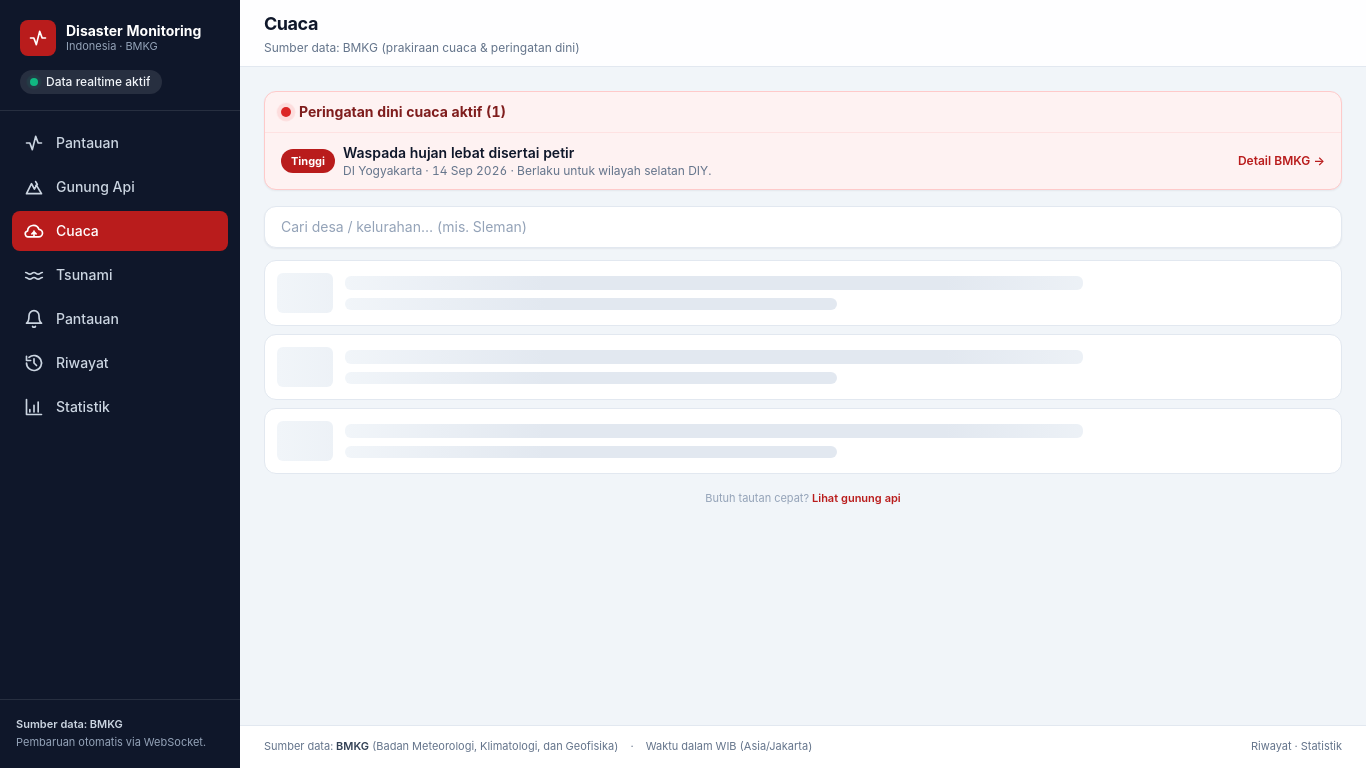
Test: Cuaca › menampilkan lokasi, prakiraan, dan peringatan
In the search field with id "cuaca-q": (803, 227) left=264, top=206, right=1342, bottom=248, type "Sleman"
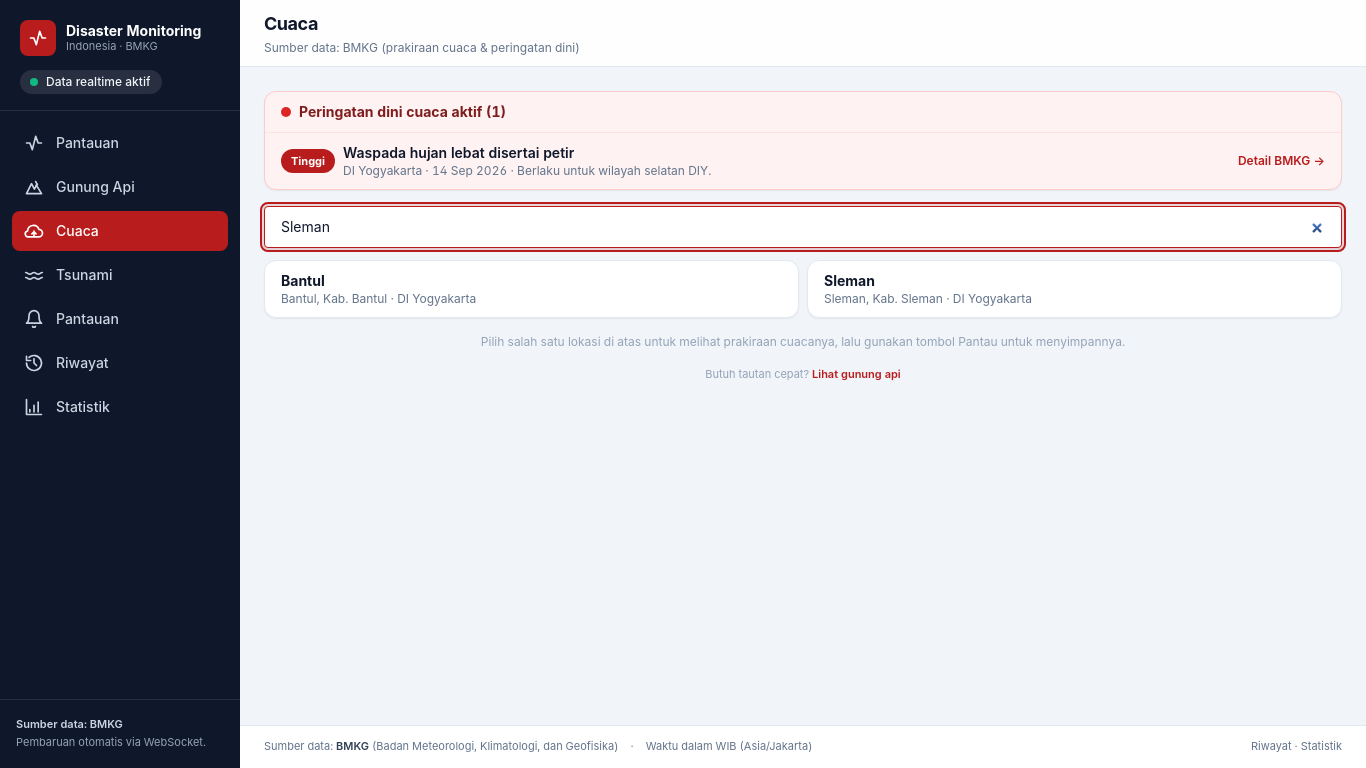
Expected: the button "Bantul" is shown, left=264, top=260, right=799, bottom=318
Click the button "Sleman": (849, 281) left=807, top=260, right=1342, bottom=318
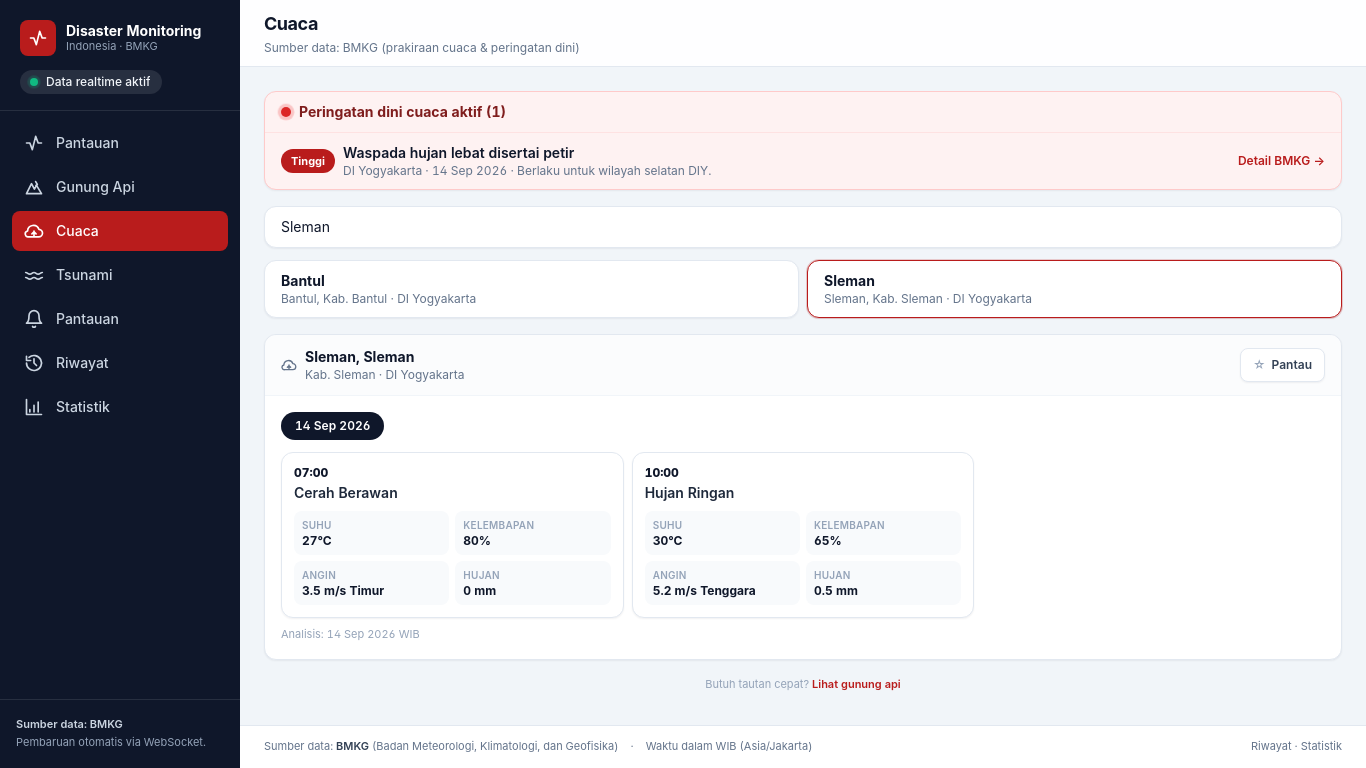
Expected: the text "Waspada hujan lebat disertai petir" is shown, left=343, top=144, right=574, bottom=161
Expected: the text "Cerah Berawan" is shown, left=294, top=484, right=398, bottom=501
Expected: the text "Hujan Ringan" is shown, left=645, top=484, right=734, bottom=501
